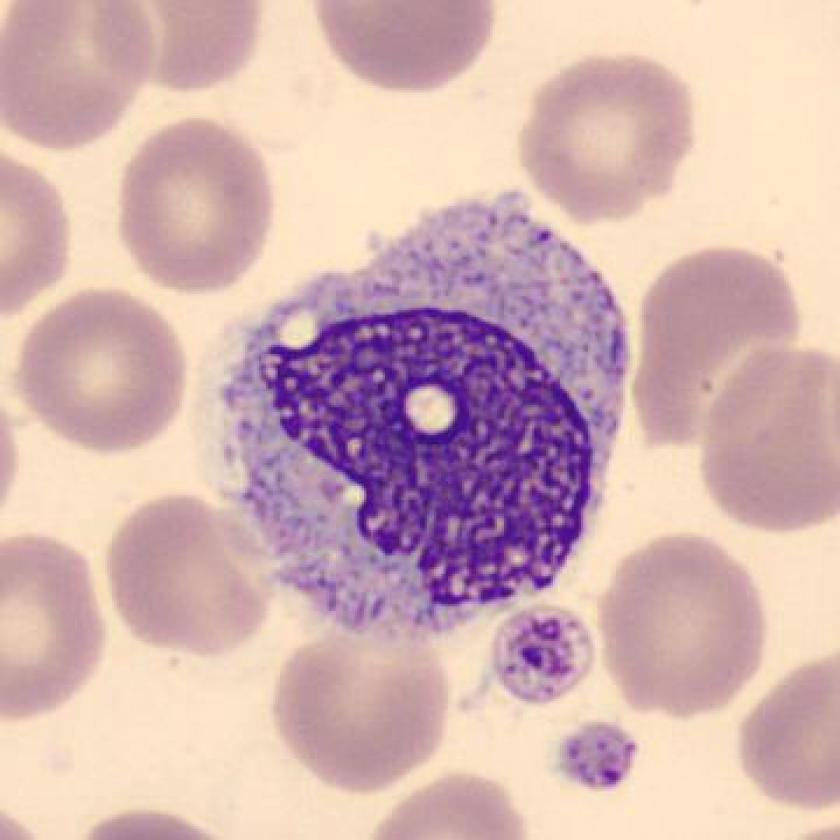monocyte: (197, 168, 664, 661)
